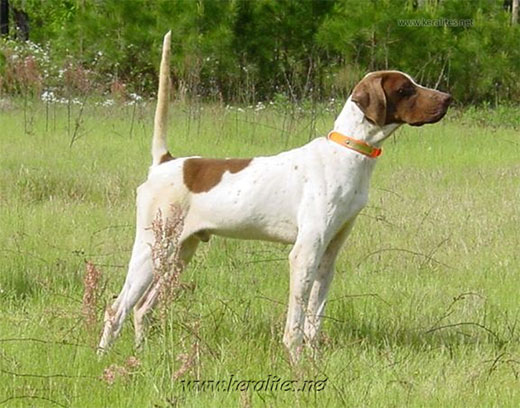tail: (142, 32, 177, 166)
